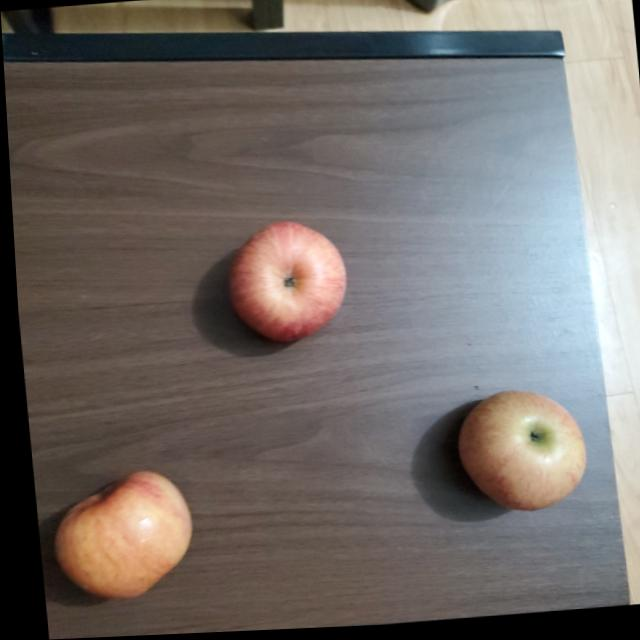apple: (46, 469, 193, 608), (447, 390, 586, 521), (224, 219, 349, 346)
